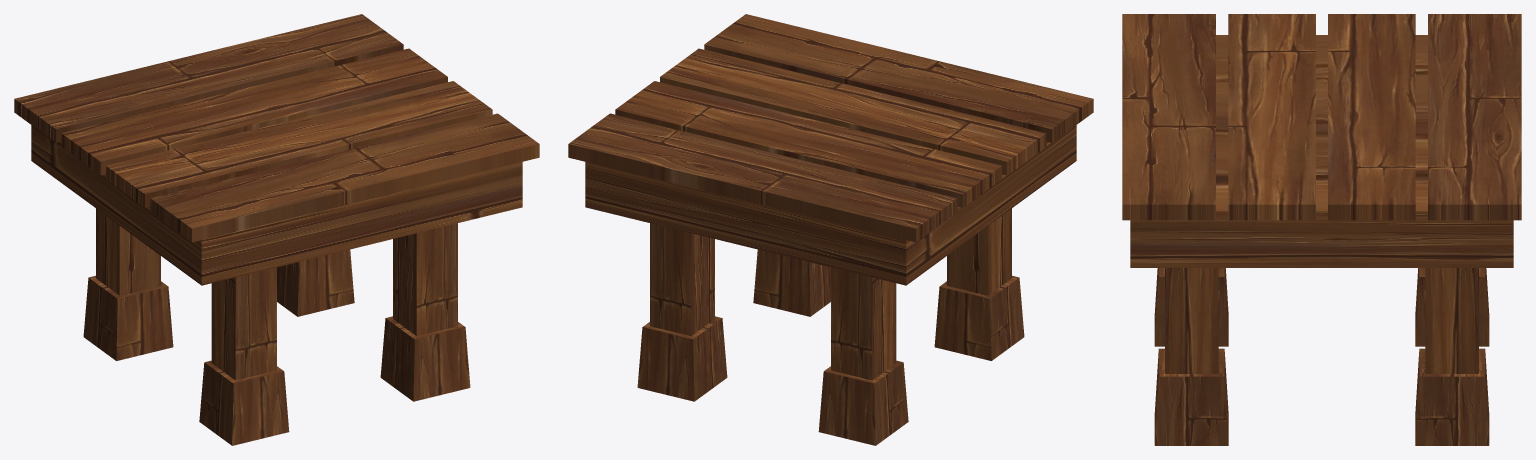
Rendered from STOOL.fbx.
The picture shows the model from 3 angles, left to right: view 1: azimuth 30°, elevation 25°; view 2: azimuth 150°, elevation 25°; view 3: azimuth 270°, elevation 25°; orthographic projection. The views are drawn at different scales.
Visible parts, largest first — view 1: Cube.296; view 2: Cube.296; view 3: Cube.296.
Part boxes in pixels (x1=…): Cube.296: x1=14, y1=14, x2=539, y2=445; Cube.296: x1=568, y1=14, x2=1093, y2=445; Cube.296: x1=1122, y1=14, x2=1521, y2=445.
Bounding box in the file's own units: 255 × 169 × 226.
